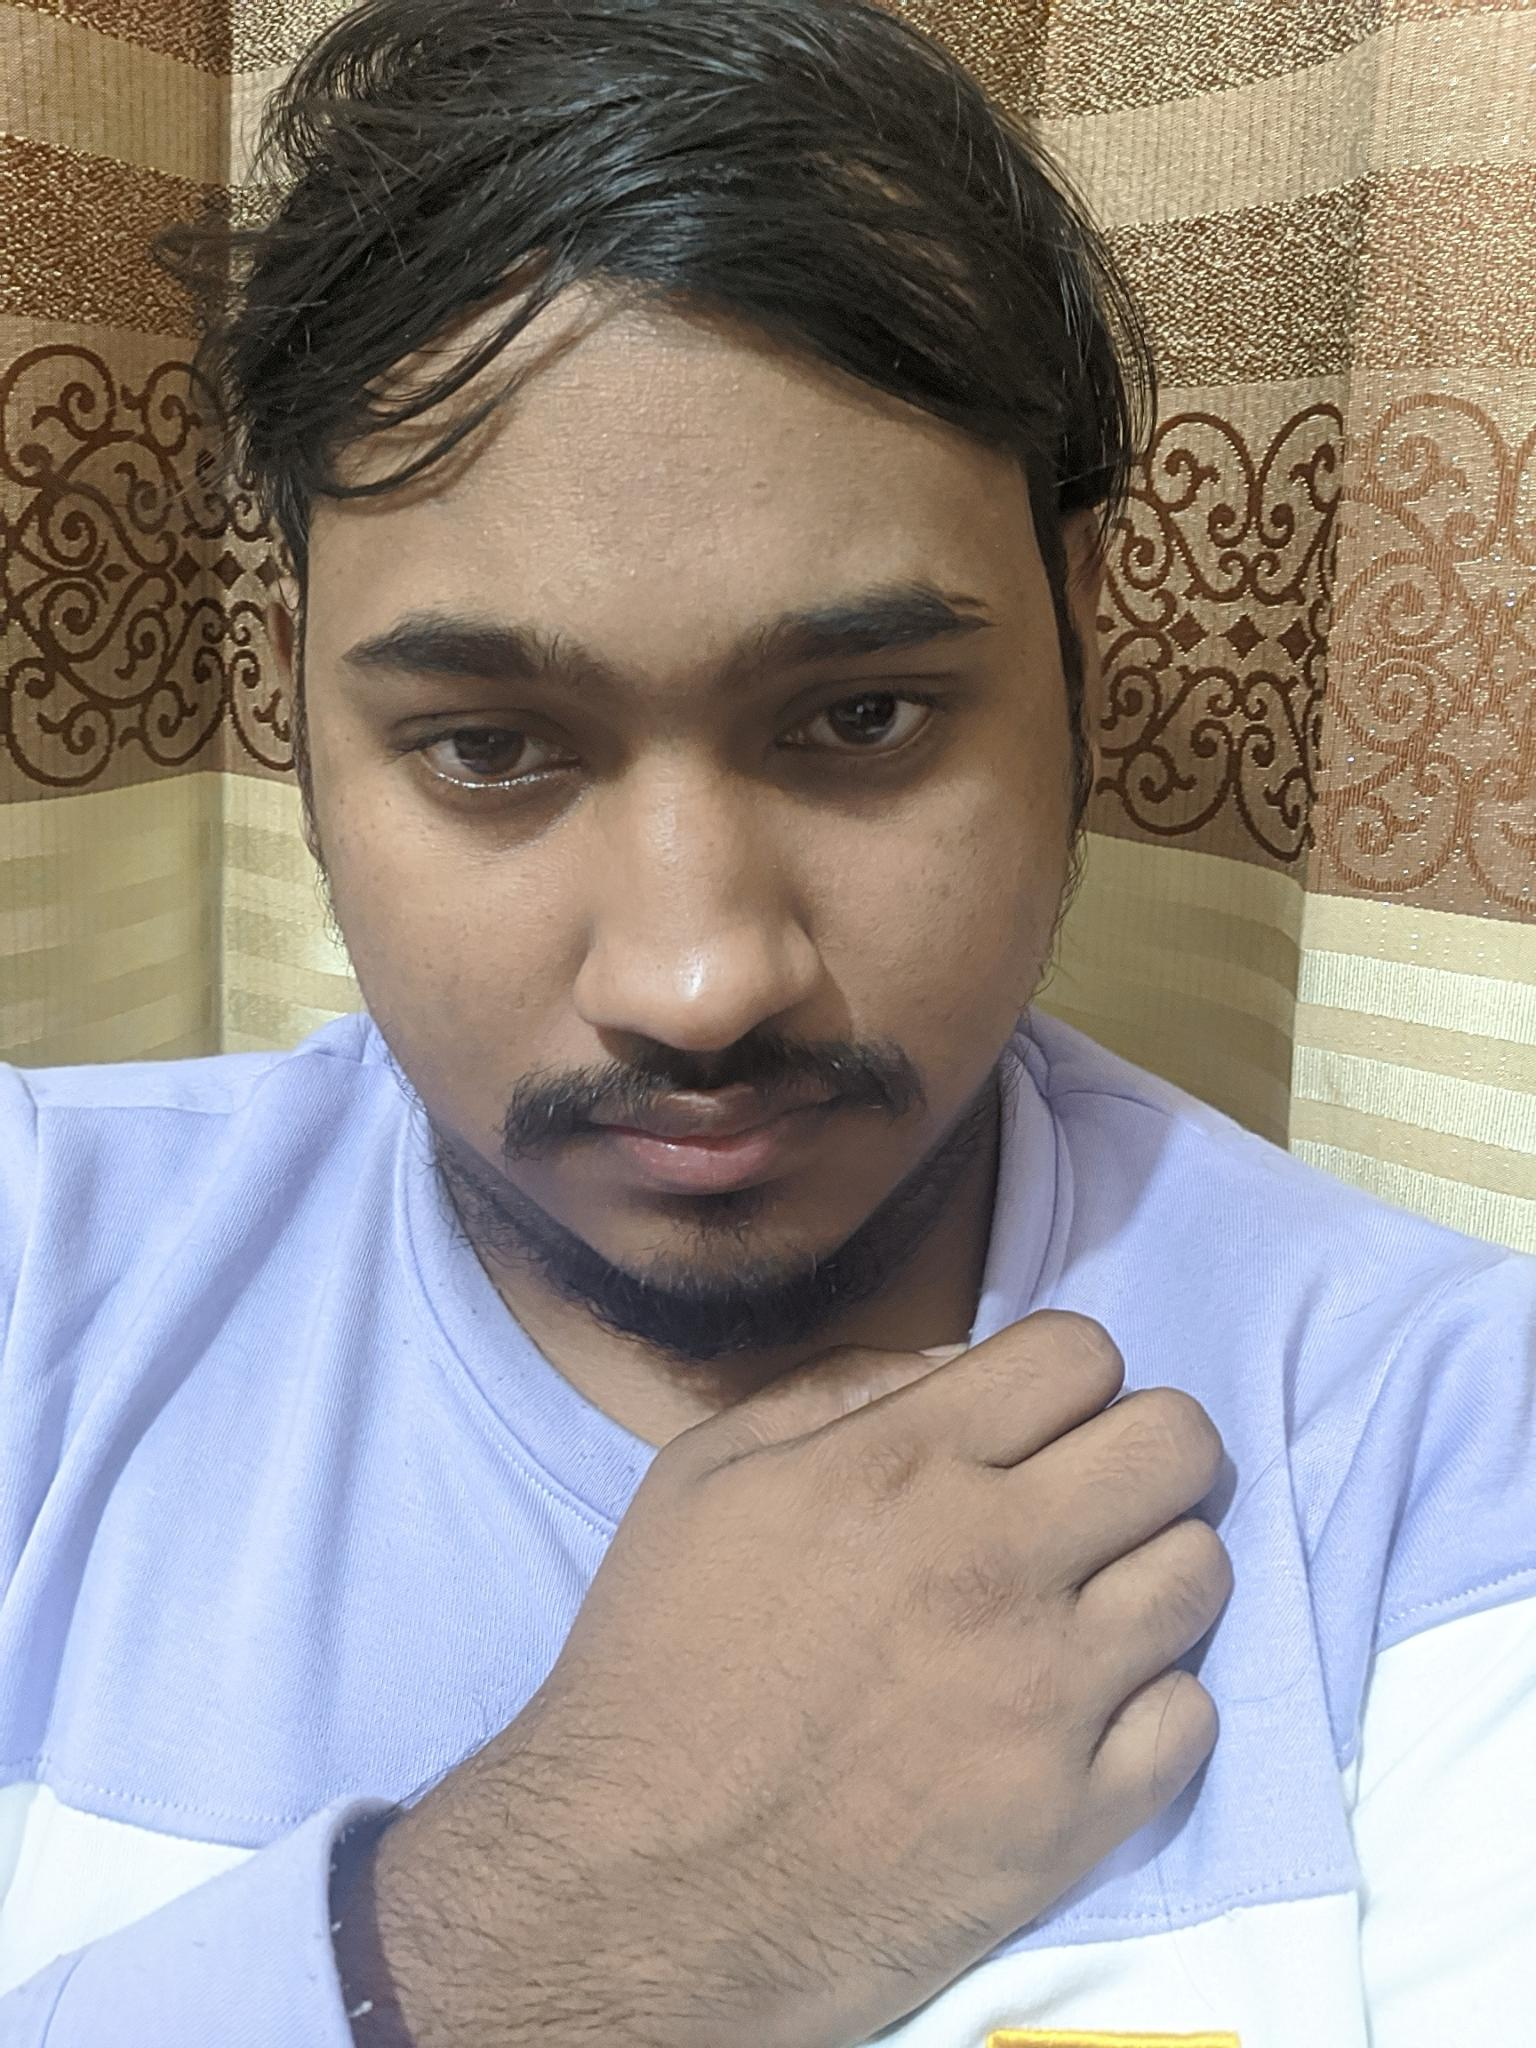Neutral: (276, 500, 1097, 1337)
